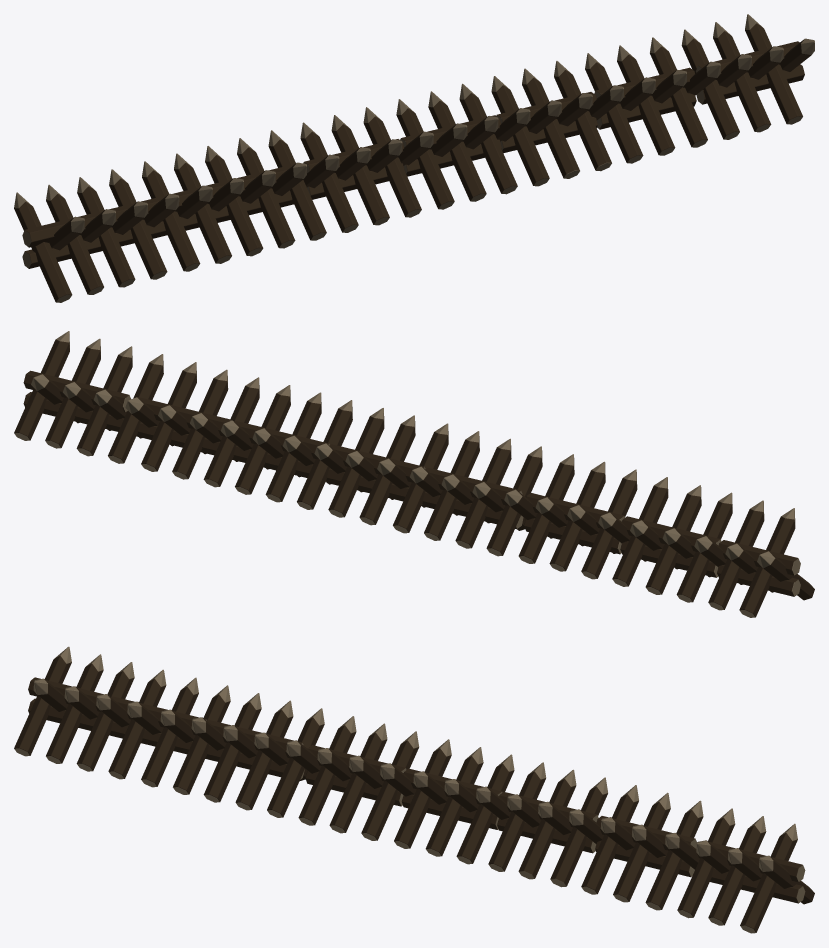
File: Castle_Stgage3.fbx
3 views of the same model, one above another, from view 1: azimuth 30°, elevation 25°; view 2: azimuth 150°, elevation 25°; view 3: azimuth 330°, elevation 25° (orthographic).
Parts seen in each view (by area): view 1: Cylinder.002; view 2: Cylinder.002; view 3: Cylinder.002.
Boxes of the visible parts, x1,y1,x2,y2 form: Cylinder.002: [14, 14, 814, 302]; Cylinder.002: [14, 331, 814, 617]; Cylinder.002: [14, 646, 814, 933].
Bounding box in the file's own units: 3537 × 367 × 406.
